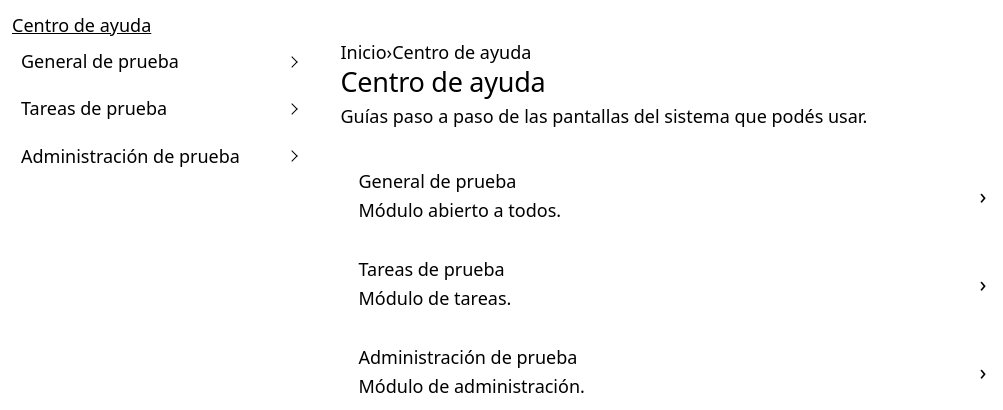
it: BarraLateralAyuda › en el inicio todos los módulos están colapsados y se expanden a demanda
Check: the link "Ver tus tareas" is not shown
Click the button "Tareas de prueba". click: {"x": 160, "y": 109}
box: [12,86,309,131]
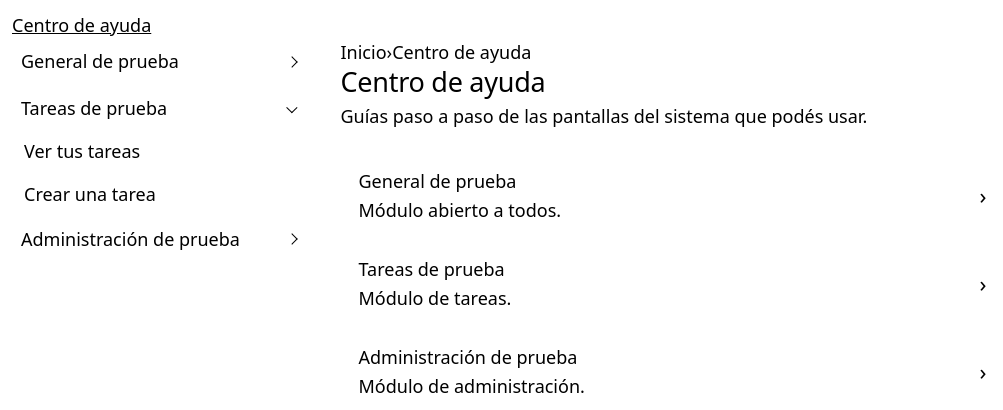
Check: the button "Tareas de prueba" is expanded
Click the button "Tareas de prueba". click: {"x": 160, "y": 109}
box: [12,86,309,131]
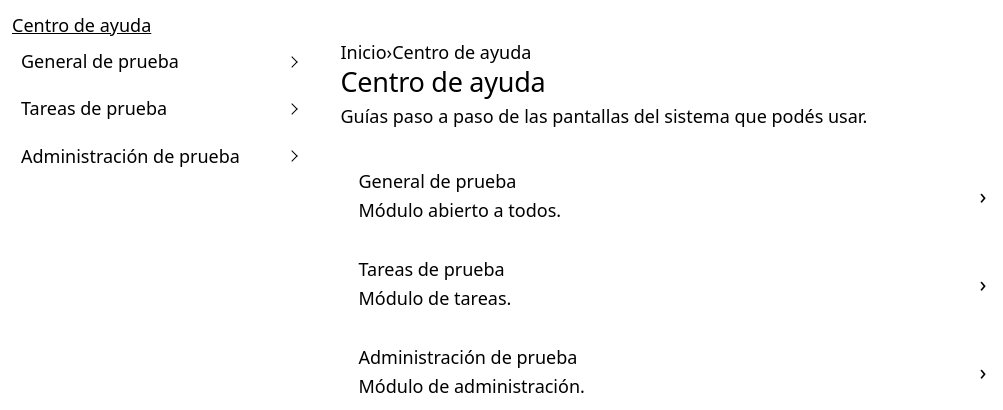
Check: the link "Ver tus tareas" is gone
